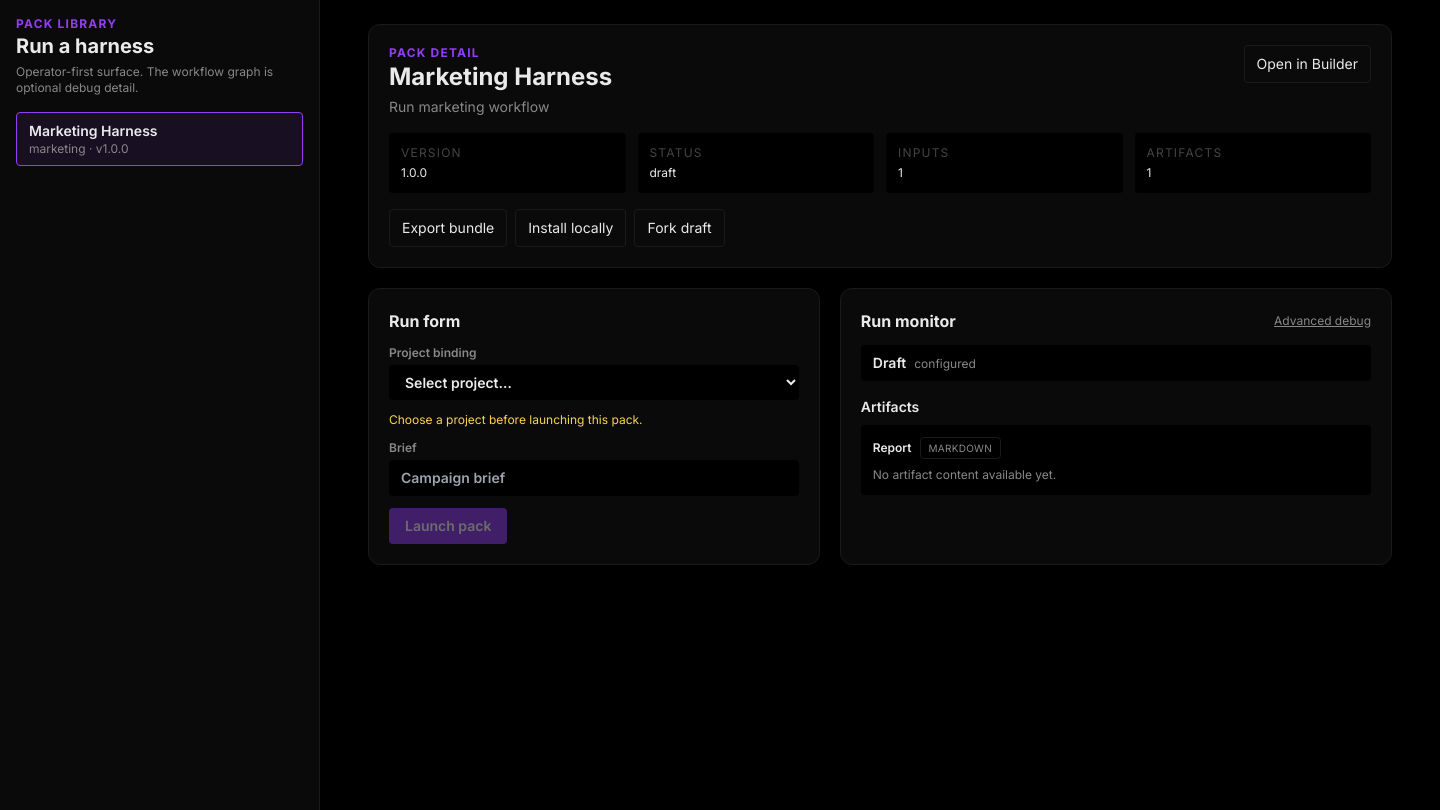
Test case: PackLibraryView › renders pack detail, generated run form, monitor, and debug drawer
Check: the text "Marketing Harness" is shown, box [29,122,158,139]
Check: the text "Pack Detail" is shown, box [389,45,480,60]
Click the button "Advanced debug".
click(1323, 321)  # box [1274,313,1371,329]
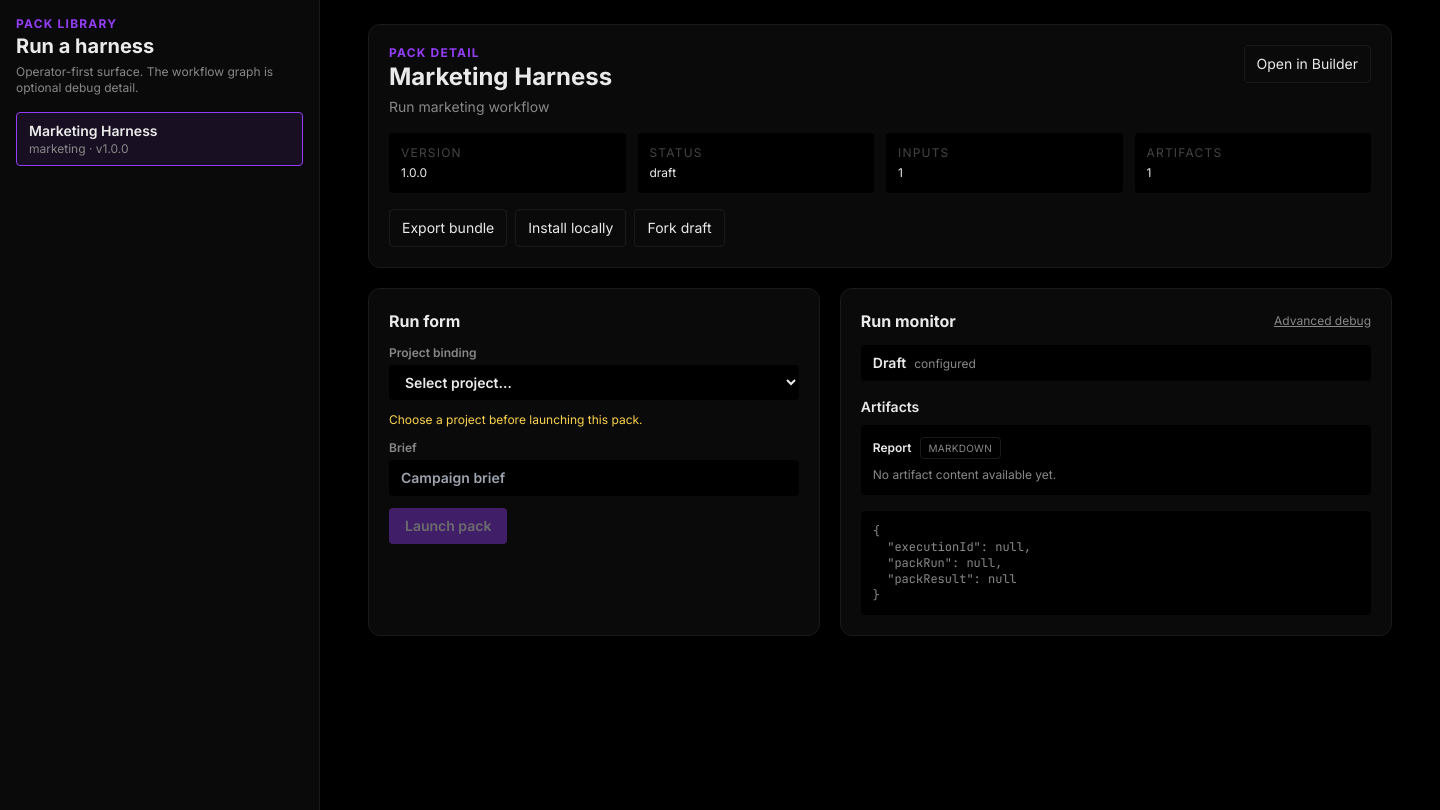
Check: the text "{ \"executionId\": null, \"packRun\": null, \"packResult\": null }" is shown, box [861,511,1371,615]
Click the button "Export bundle".
click(448, 228)  # box [389,209,507,247]
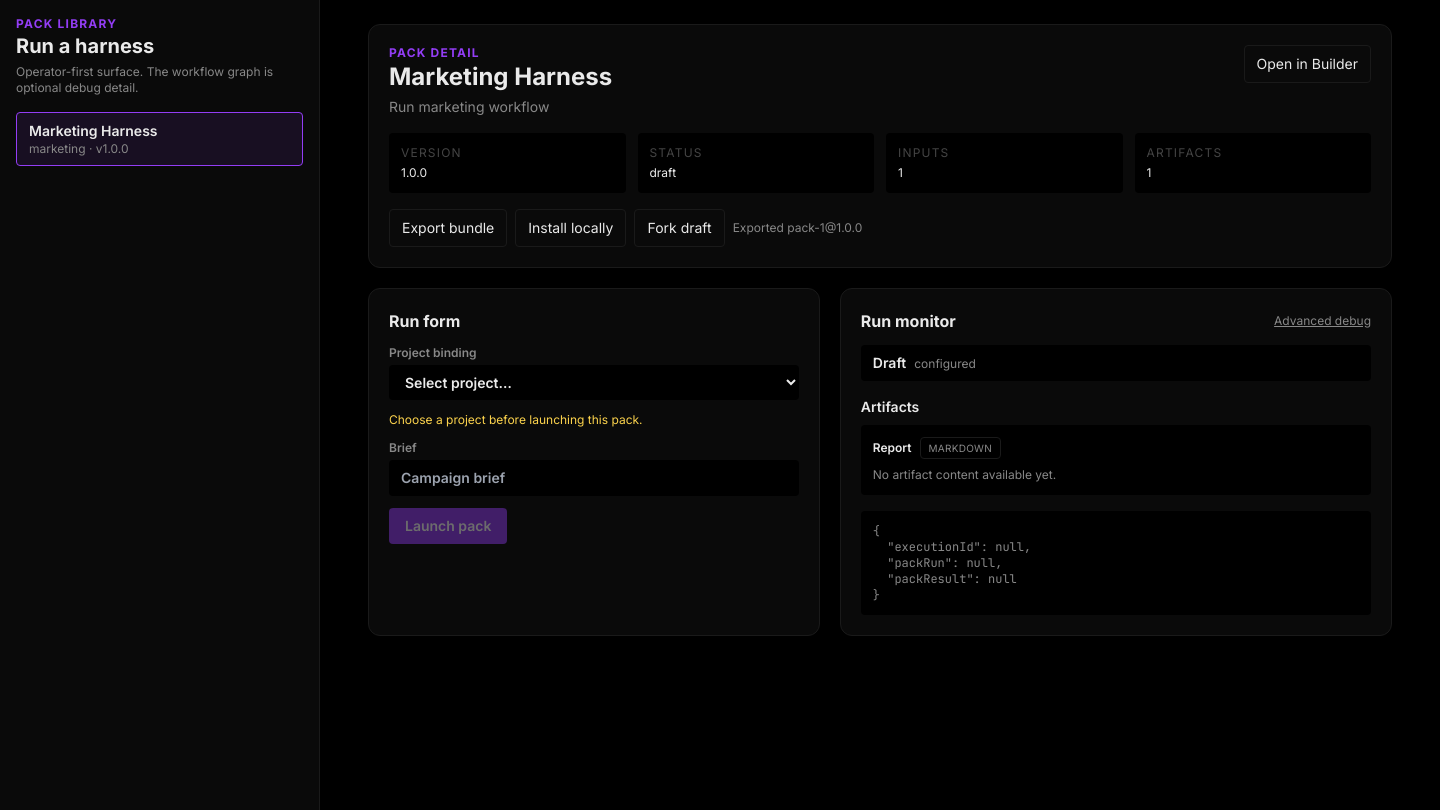
Check: the text "Exported pack-1@1.0.0" is shown, box [733,220,862,236]
Click the button "Install locally".
click(571, 228)  # box [515,209,626,247]
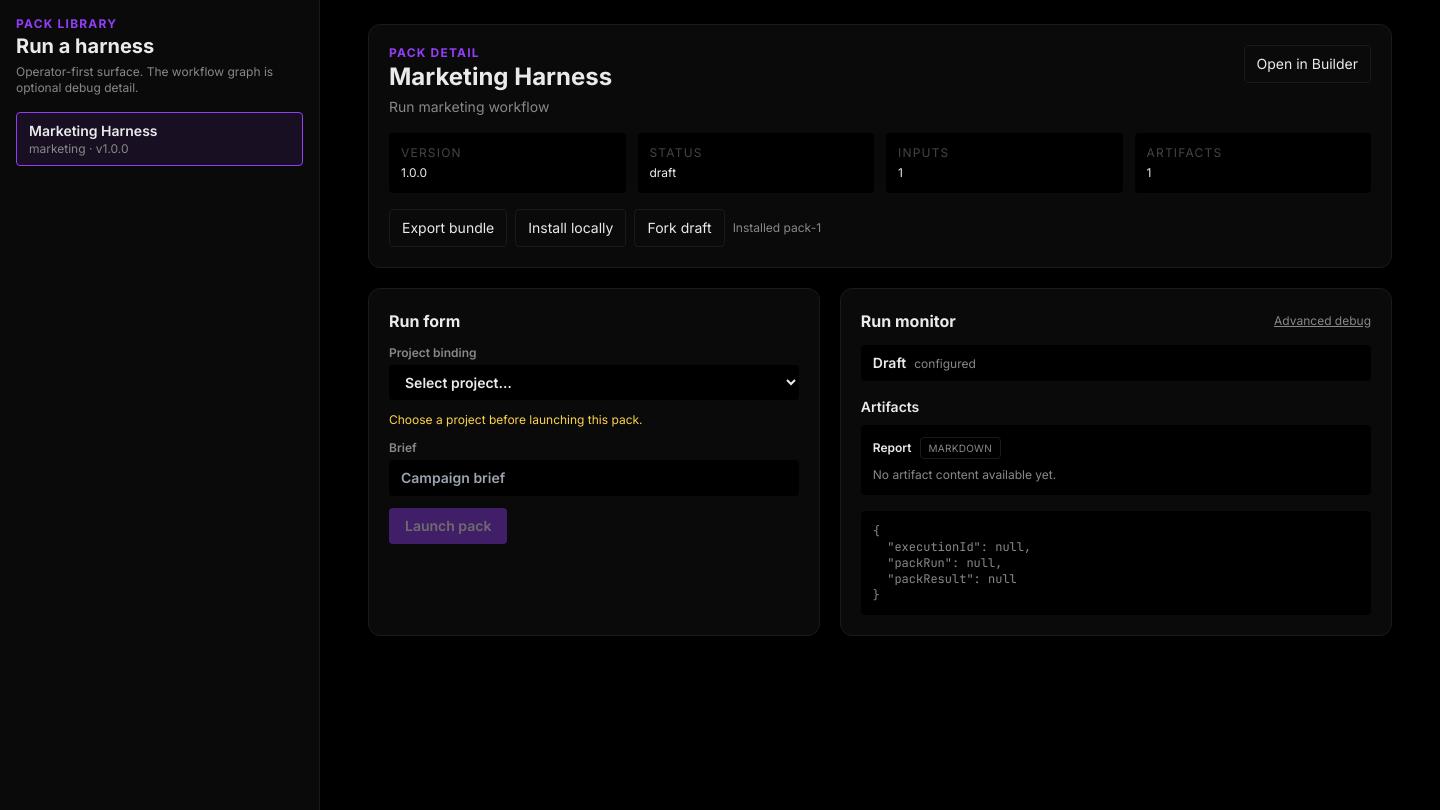
Check: the text "Installed pack-1" is shown, box [733,220,821,236]
Click the button "Fork draft".
click(680, 228)  # box [634,209,725,247]
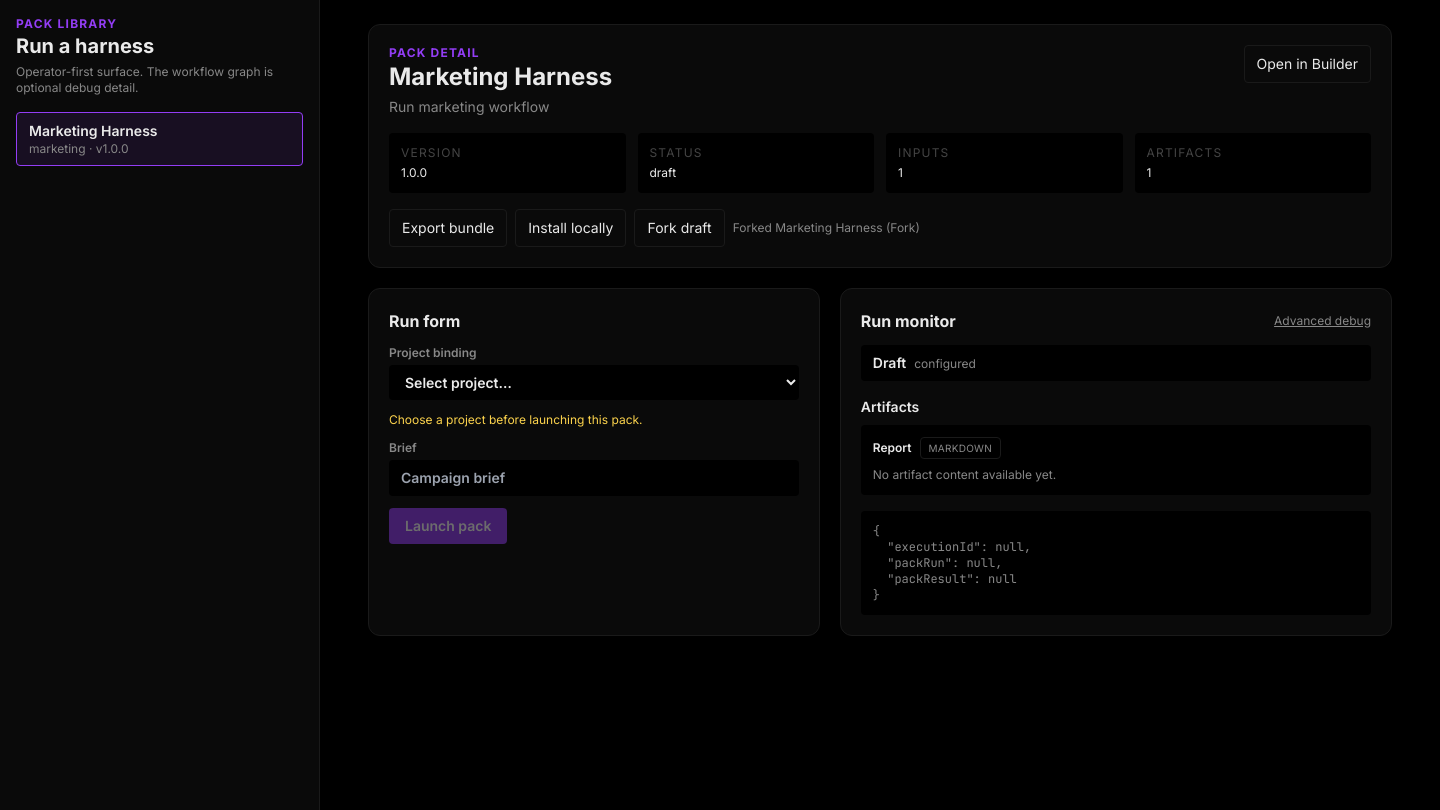
Check: the text "Forked Marketing Harness (Fork)" is shown, box [733,220,920,236]
